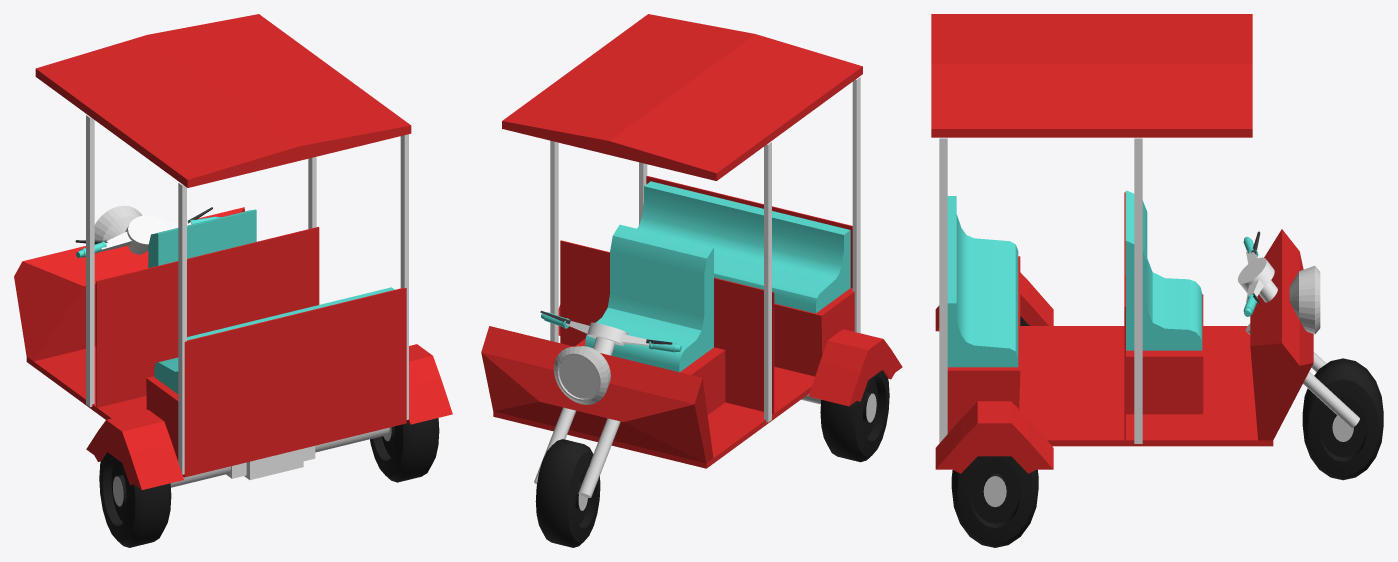
The model's file is mainplayer.fbx.
3 views of the same model, side by side, from view 1: azimuth 30°, elevation 25°; view 2: azimuth 150°, elevation 25°; view 3: azimuth 270°, elevation 25° (orthographic). The views are drawn at different scales.
Parts seen in each view (by area): view 1: Cube, Cube.003, Cylinder.001, Cube.004, Cube.001, Cube.006, Cube.002, Cube.005, Cube.009, Cylinder.004, Cylinder.005, Cylinder.003; view 2: Cube, Cube.003, Cube.005, Cube.006, Cylinder, Cube.004, Cylinder.001, Cube.002, Cylinder.004, Cube.001, Cylinder.002, Cylinder.005; view 3: Cube.003, Cube, Cube.005, Cylinder, Cube.004, Cube.006, Cylinder.001, Cube.002, Cube.001, Cylinder.004, Cylinder.002, Cylinder.005.
Part boxes in pixels (box(x1,y1,x2,y2)): Cube: box(14, 207, 406, 477); Cube.003: box(35, 14, 411, 187); Cylinder.001: box(99, 418, 439, 547); Cube.004: box(86, 344, 452, 489); Cube.001: box(178, 134, 408, 474); Cube.006: box(148, 209, 256, 268); Cube.002: box(86, 115, 316, 407); Cube.005: box(154, 287, 394, 394); Cube.009: box(226, 446, 315, 479); Cylinder.004: box(94, 205, 142, 240); Cylinder.005: box(125, 215, 166, 254); Cylinder.003: box(170, 427, 389, 487); Cube: box(481, 176, 854, 468); Cube.003: box(502, 14, 862, 180); Cube.005: box(637, 181, 850, 313); Cube.006: box(585, 224, 713, 372); Cylinder: box(535, 439, 600, 547); Cube.004: box(558, 305, 902, 406); Cylinder.001: box(820, 370, 889, 462); Cube.002: box(550, 140, 771, 422); Cylinder.004: box(553, 346, 610, 404); Cube.001: box(639, 77, 860, 333); Cylinder.002: box(534, 407, 620, 497); Cylinder.005: box(587, 322, 627, 355); Cube.003: box(931, 14, 1252, 137); Cube: box(947, 192, 1313, 446); Cube.005: box(947, 196, 1018, 367); Cylinder: box(1302, 358, 1383, 480); Cube.004: box(935, 272, 1053, 473); Cube.006: box(1125, 190, 1202, 350); Cylinder.001: box(951, 316, 1038, 547); Cube.002: box(1134, 137, 1142, 443); Cube.001: box(939, 137, 947, 443); Cylinder.004: box(1289, 266, 1320, 334); Cylinder.002: box(1245, 323, 1359, 427); Cylinder.005: box(1237, 257, 1277, 302).
Size of the model in its own units: 501 by 597 by 598.
